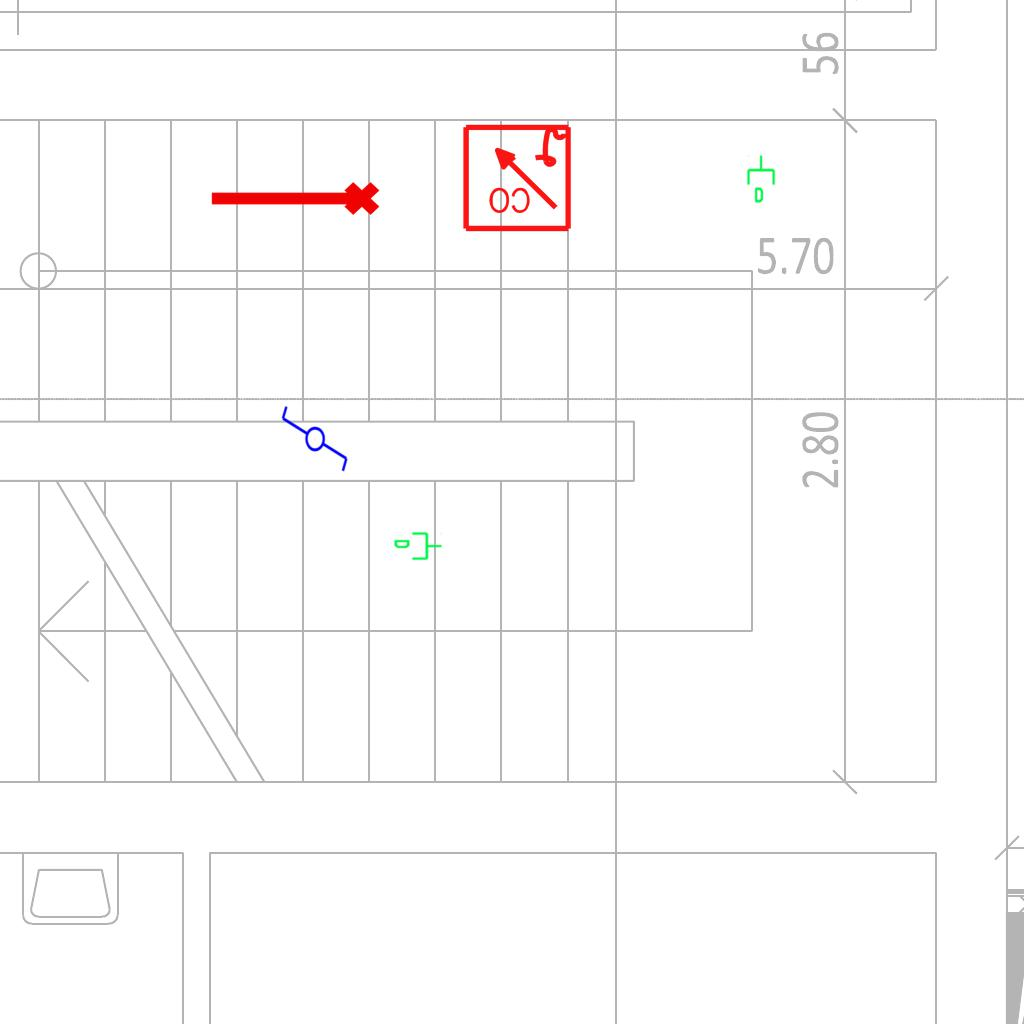ASR_Ansaugoeffnung: (206, 178, 382, 224)
Datenanschluss_einfach: (393, 530, 443, 564), (745, 154, 779, 204)
ROA_Rauchmelder_optisch_mit_Signalgeber_(Sockelsirene): (460, 120, 573, 233)
Wechselschalter: (278, 404, 350, 482)
